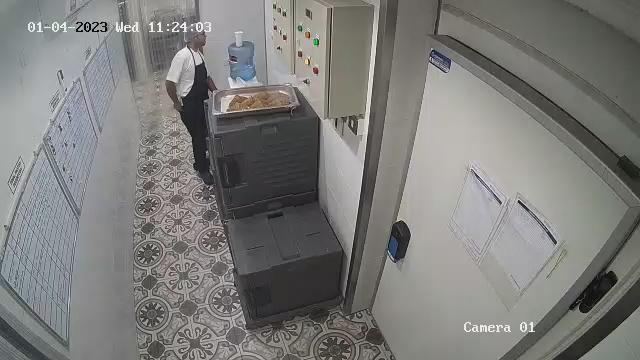apron: (178, 51, 208, 145)
